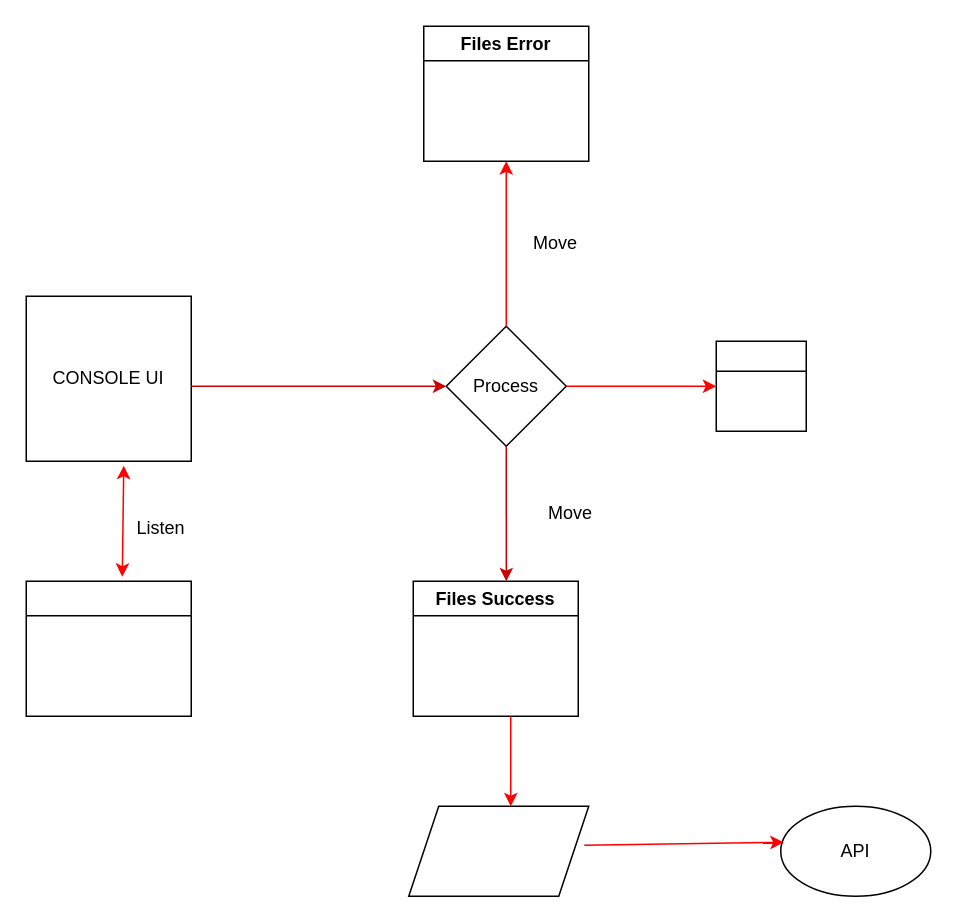
Image size: 957x923. Some labels were removed from this diagram. Each missing label, with the box of its shape:
Base 64: (407, 805, 589, 896)
Files: (25, 580, 191, 716)
Logs: (715, 340, 806, 431)
